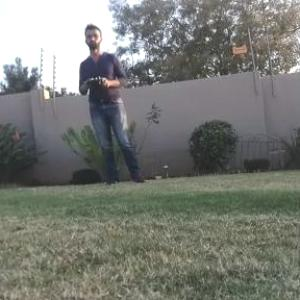follow: (76, 20, 153, 189)
